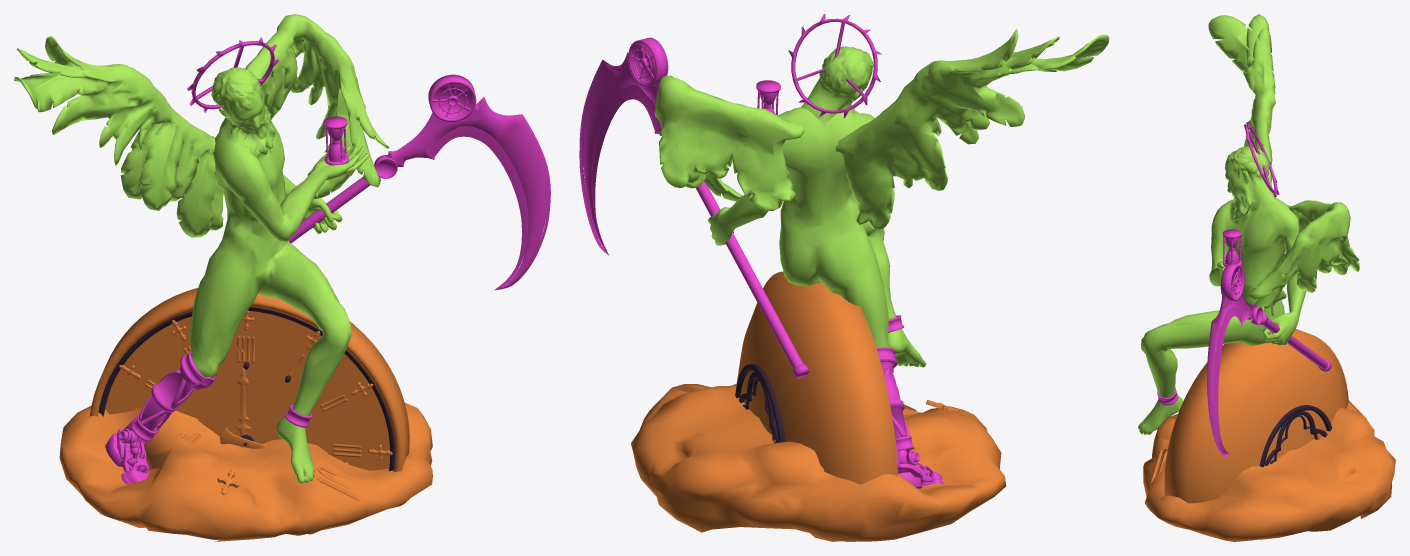
File: statue_join.fbx
3 views of the same model, side by side, from view 1: azimuth 30°, elevation 25°; view 2: azimuth 150°, elevation 25°; view 3: azimuth 270°, elevation 25° (orthographic). The views are drawn at different scales.
Parts seen in each view (by area): view 1: statue_join; view 2: statue_join; view 3: statue_join.
Part boxes in pixels (x1,y1,x2,y2): statue_join: [14, 14, 550, 541]; statue_join: [579, 14, 1109, 541]; statue_join: [1138, 14, 1395, 541].
Bounding box in the file's own units: 502 × 464 × 275.
